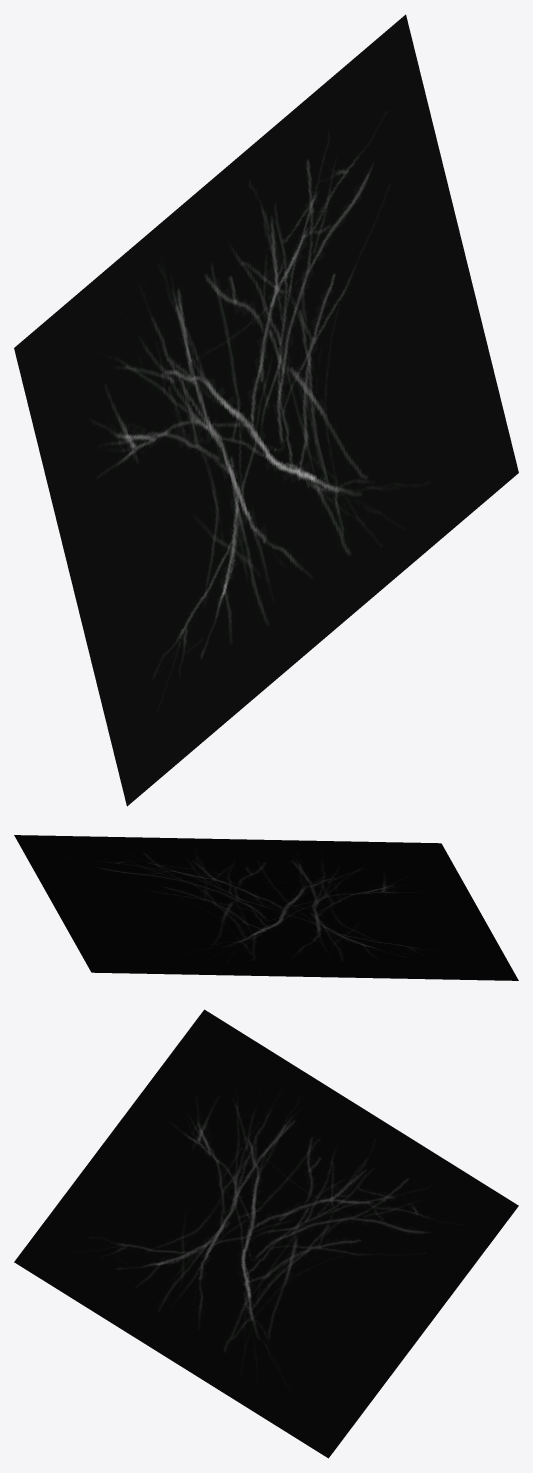
The model's file is MIRKWOOD_WEB_DECOR03.fbx.
The picture shows the model from 3 angles, top to bottom: view 1: azimuth 30°, elevation 25°; view 2: azimuth 150°, elevation 25°; view 3: azimuth 270°, elevation 25°; orthographic projection. The views are drawn at different scales.
Visible parts, largest first — view 1: MIRKWOOD_WEB_DECOR03; view 2: MIRKWOOD_WEB_DECOR03; view 3: MIRKWOOD_WEB_DECOR03.
Boxes of the visible parts, <box> form: MIRKWOOD_WEB_DECOR03: <box>14,14,518,806</box>; MIRKWOOD_WEB_DECOR03: <box>14,835,518,980</box>; MIRKWOOD_WEB_DECOR03: <box>14,1009,518,1458</box>.
Bounding box in the file's own units: 61686 × 36081 × 59351.
1 material, 1 textured.
